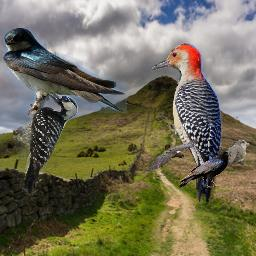Crow: (178, 150, 234, 188), (144, 138, 198, 172)
Cuckoo: (227, 140, 250, 165)
Swallow: (3, 28, 127, 118)
Woodpecker: (151, 43, 222, 202), (13, 90, 79, 196)
